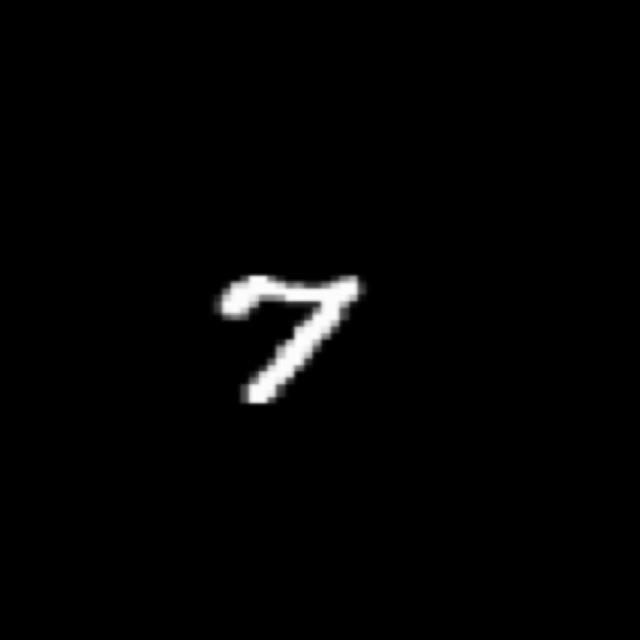seven -7-: (208, 262, 370, 412)
